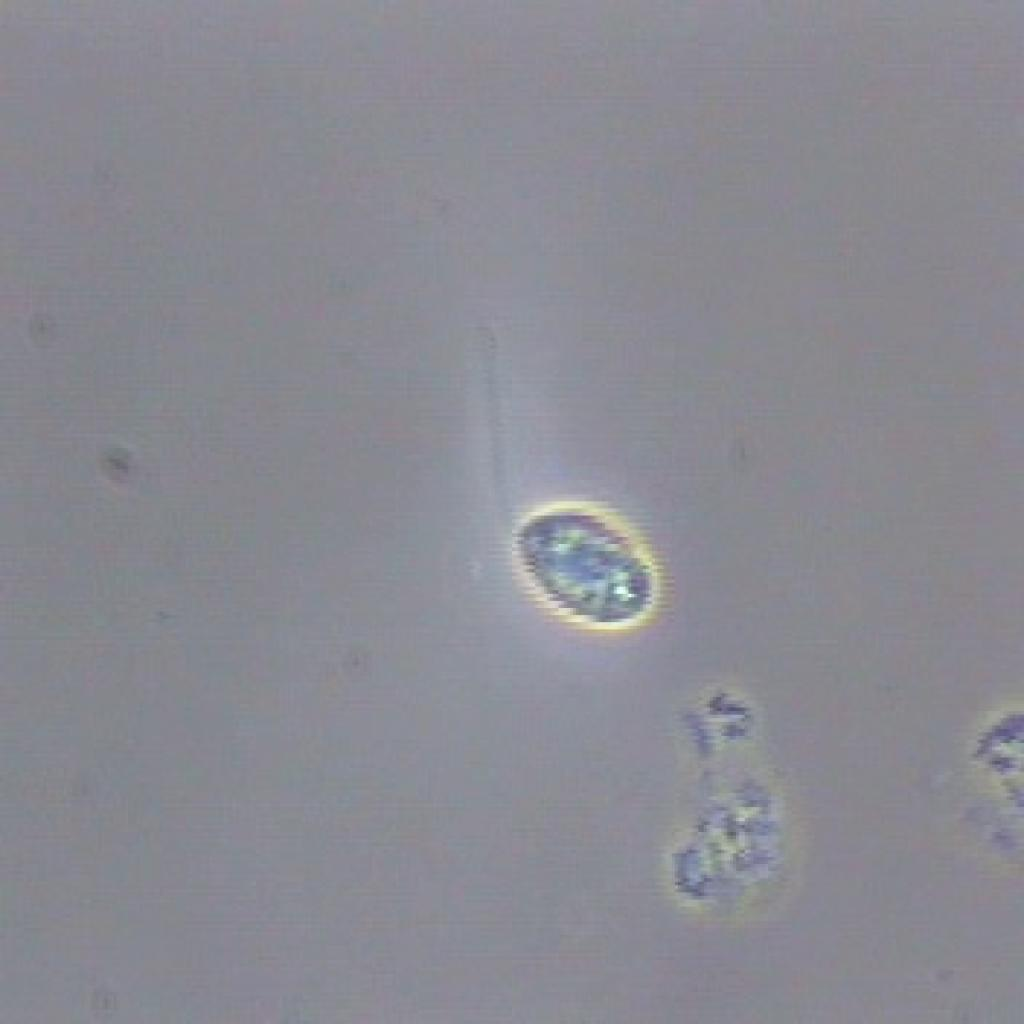Flagellates: (448, 329, 684, 649)
